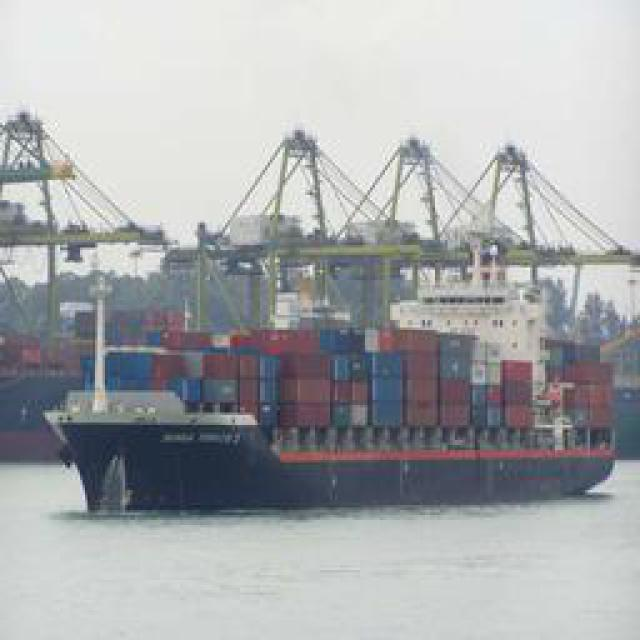Ship: (20, 124, 628, 527)
